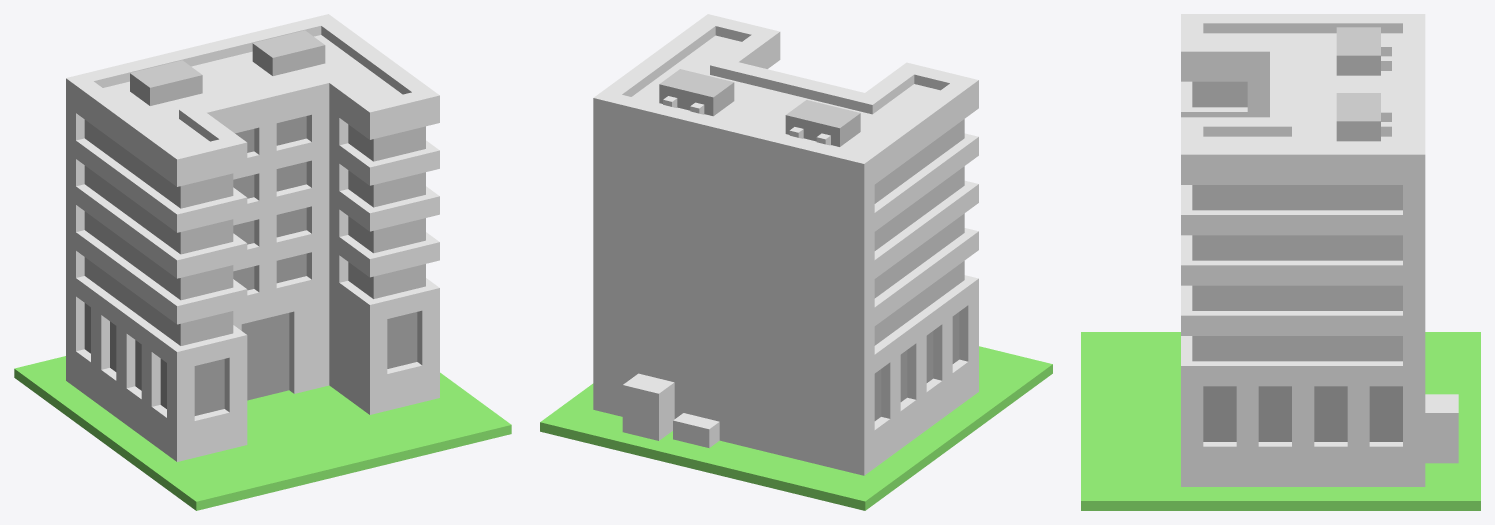
3 views of the same model, side by side, from view 1: azimuth 30°, elevation 25°; view 2: azimuth 150°, elevation 25°; view 3: azimuth 270°, elevation 25° (orthographic). The views are drawn at different scales.
Visible parts, largest first — view 1: ObjObject.008; view 2: ObjObject.008; view 3: ObjObject.008.
Boxes of the visible parts, x1,y1,x2,y2 form: ObjObject.008: (14, 14, 511, 510); ObjObject.008: (540, 14, 1052, 510); ObjObject.008: (1081, 14, 1480, 510).
Size of the model in its own units: 2 by 2 by 1.94.
